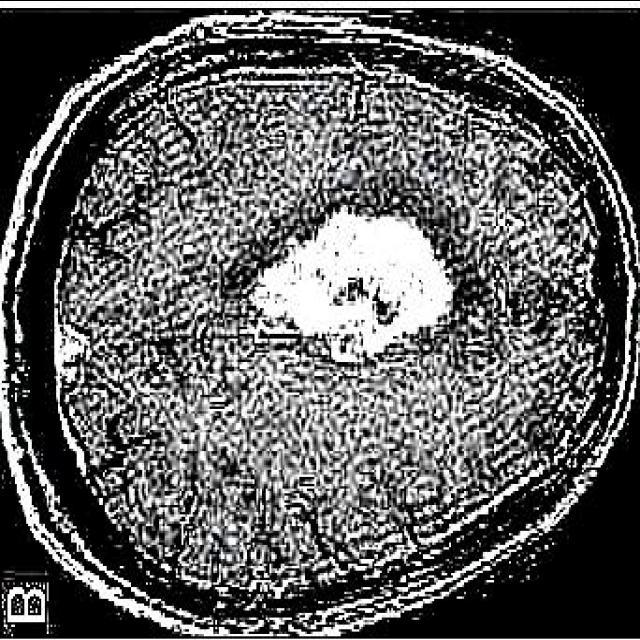tumor: (253, 204, 457, 363)
